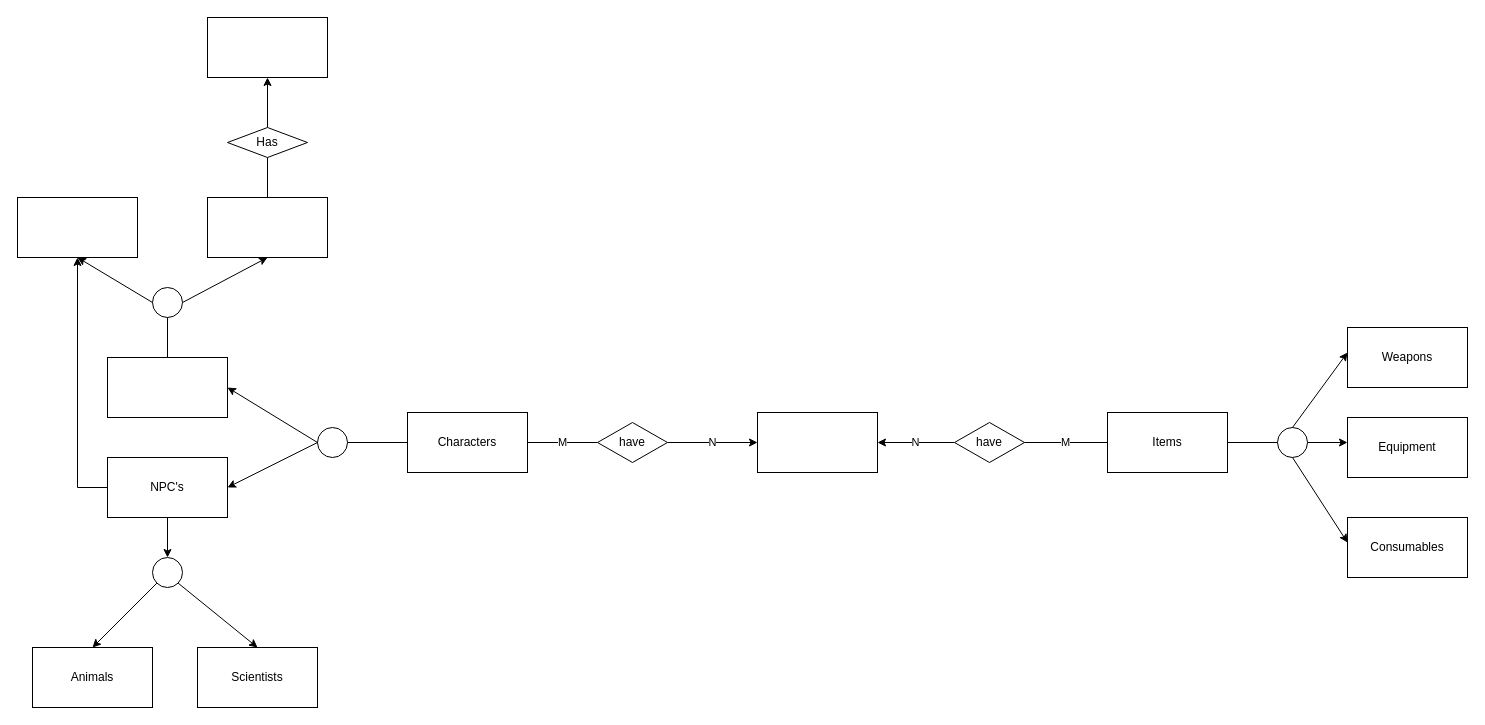
Some shapes in this 1485 by 725 pixel diagram are drawn without their labels. Here are the shapes that lost their labels. From the top down, the box of each, then its label:
(206, 16, 328, 78): Backpack
(16, 196, 138, 258): Recruitable
(206, 196, 328, 258): Main Character
(106, 356, 228, 418): Player Characters
(756, 412, 878, 472): Atributes
